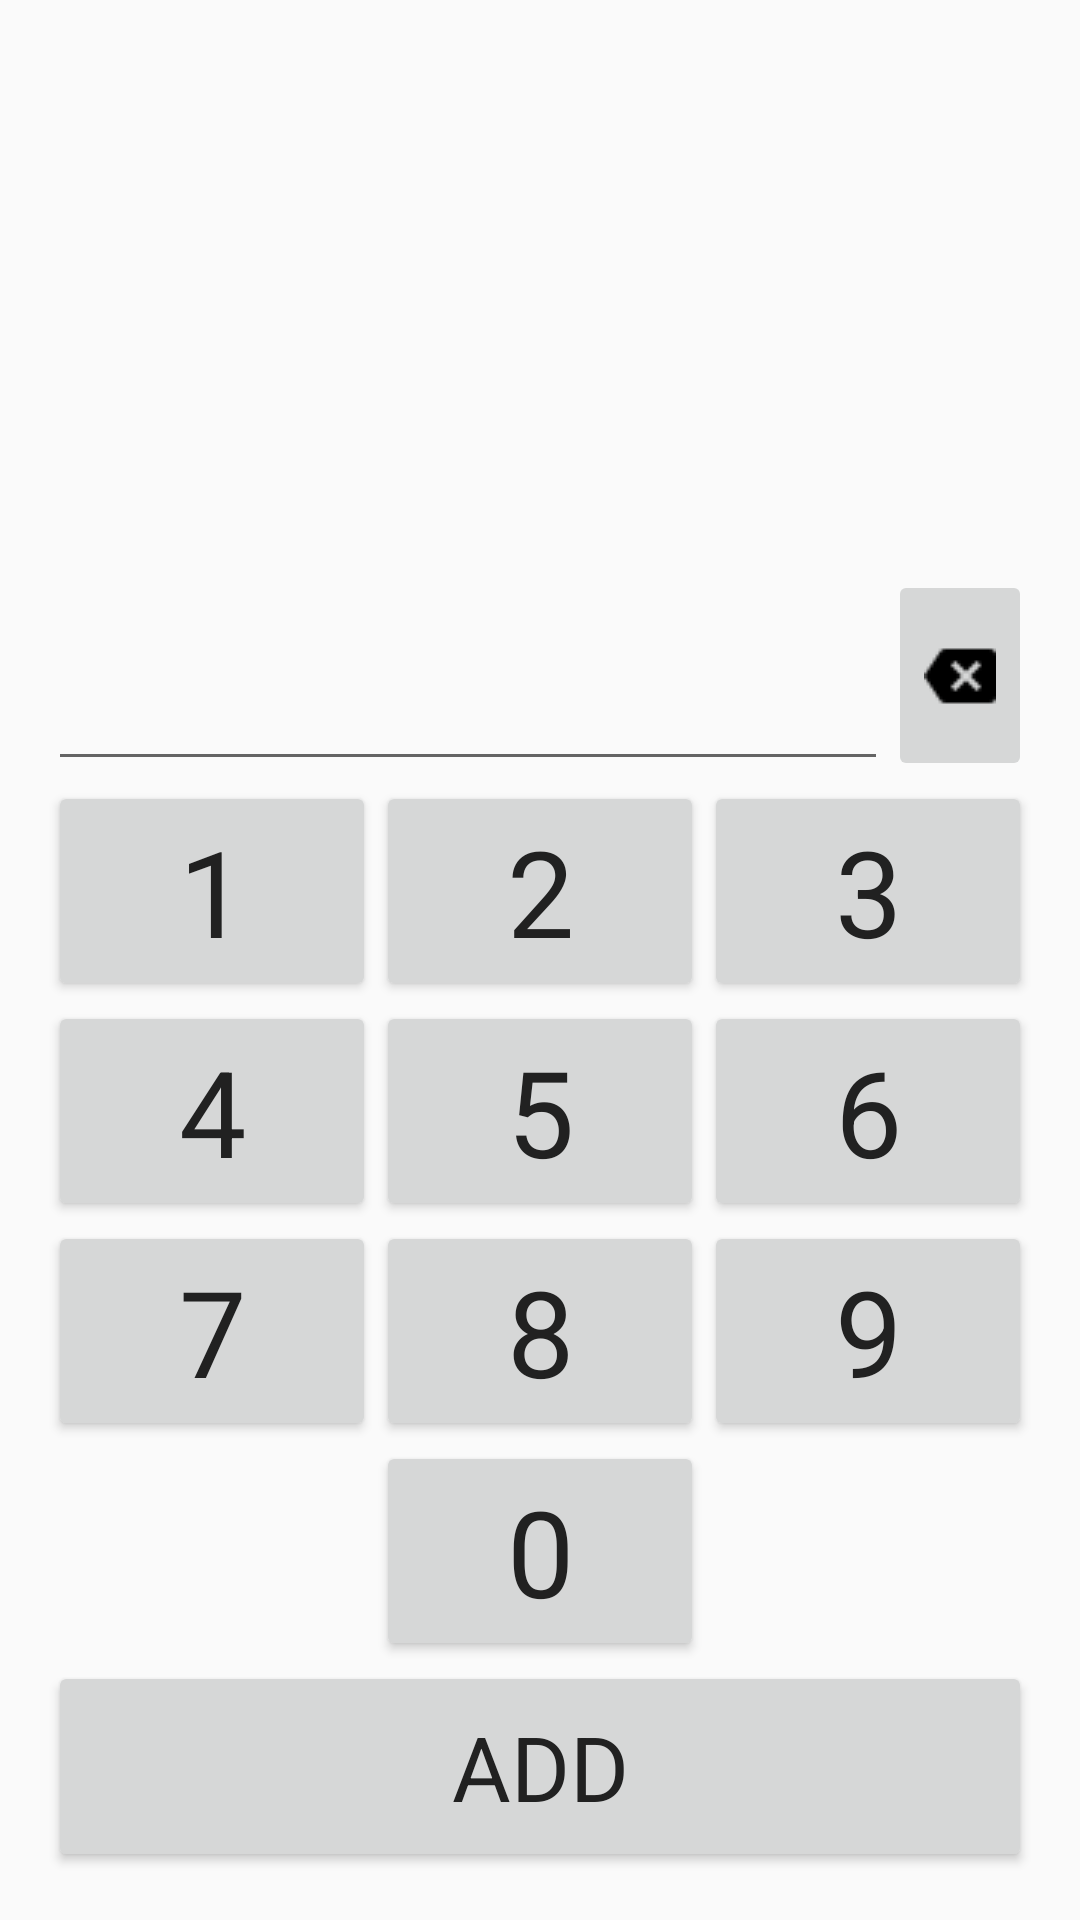

Point at icon controls on the screen. Image size 1080w x 1920h, points as point (x, y).
backspace: point (960, 675)
